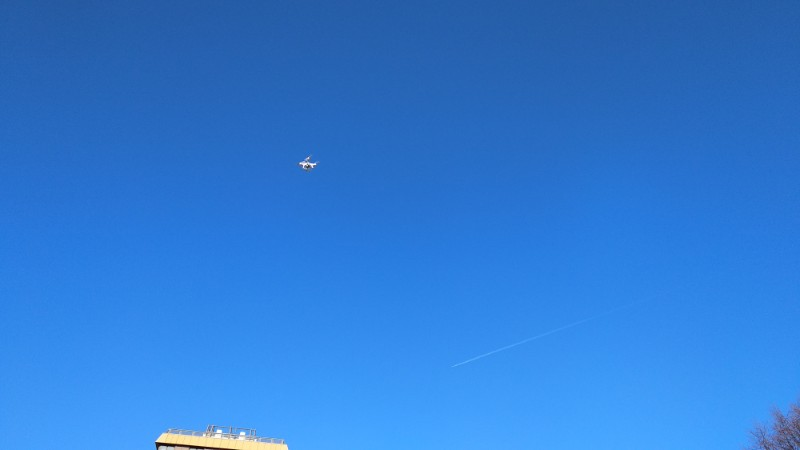drone: (298, 154, 320, 174)
